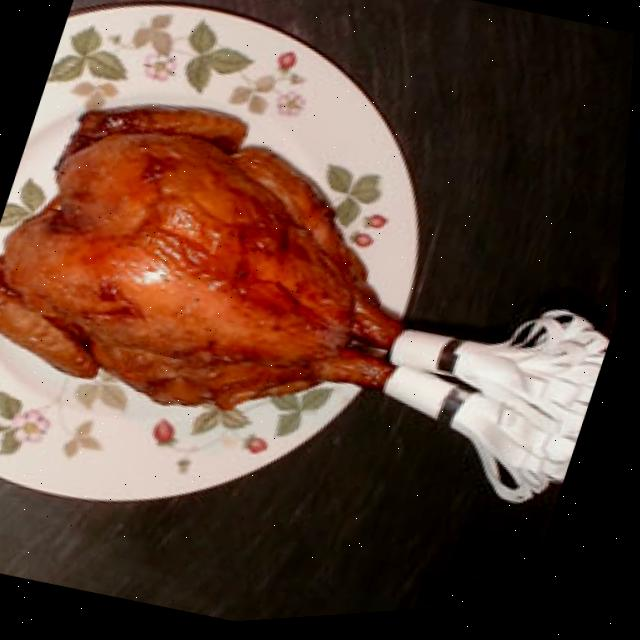鸡肉料理 含炸鸡: (0, 35, 636, 551)
